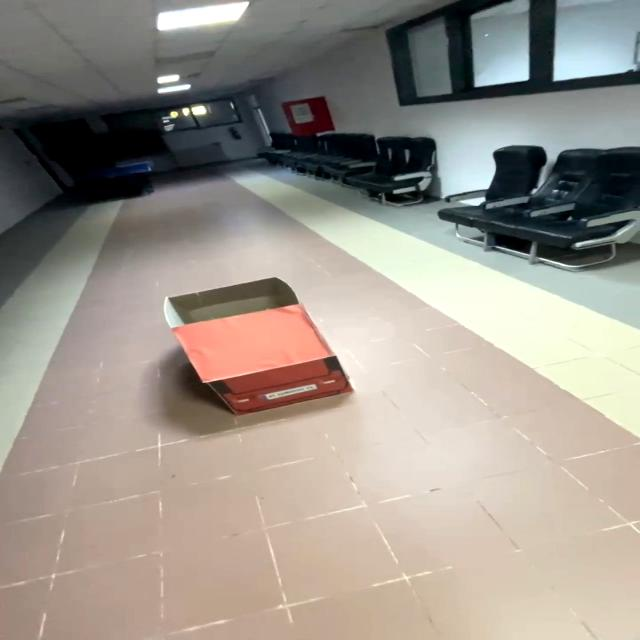red_car: (132, 263, 372, 447)
